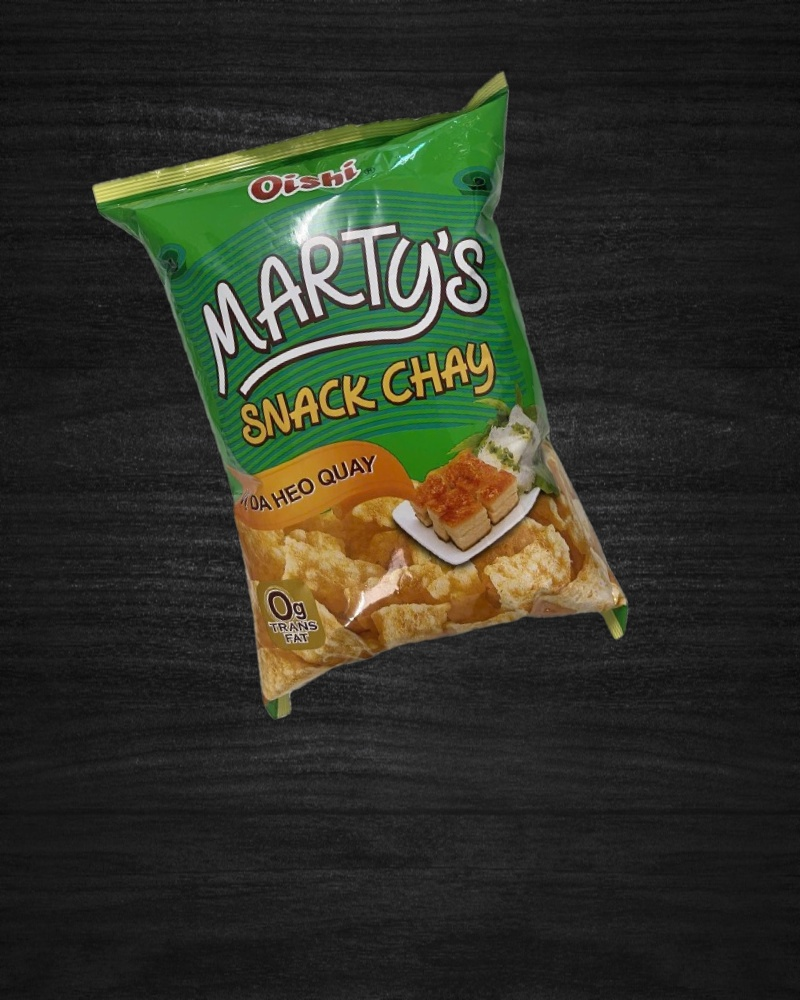Snack chay: (91, 70, 655, 741)
